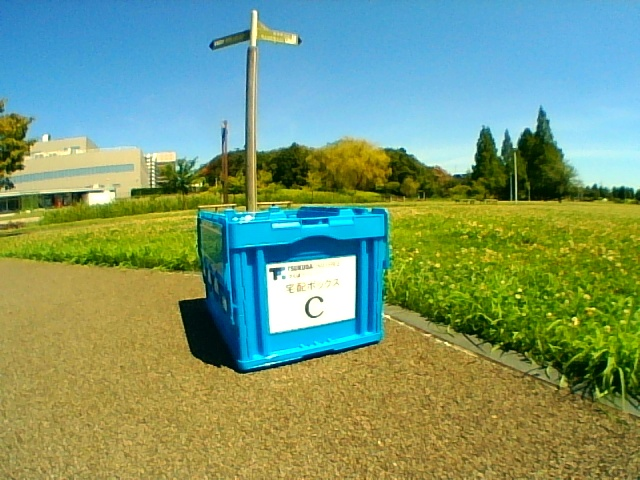blue_box: (233, 211, 379, 343)
tag_c: (276, 266, 347, 321)
